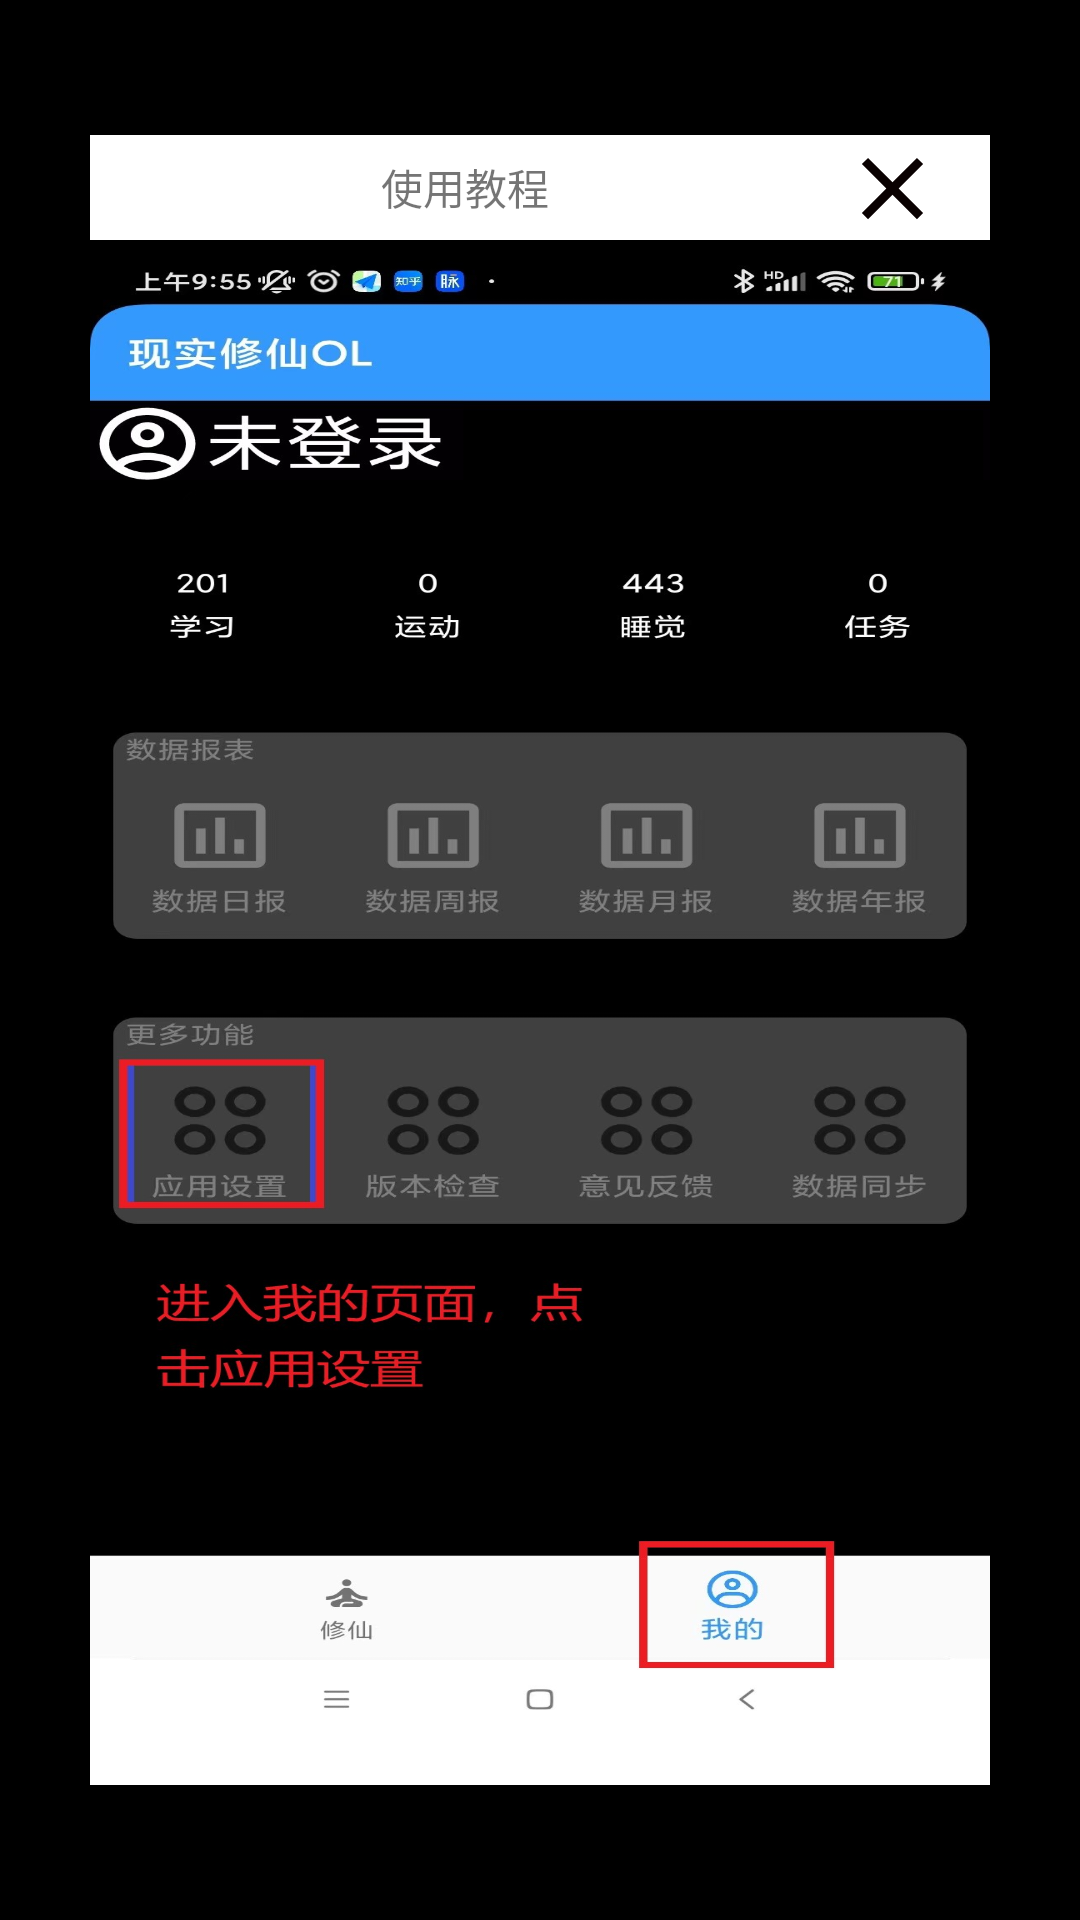

Where icons sit on this 1080px x 1920px app screen, as box=[x1, y1, x2, y2]:
close: box=[862, 158, 923, 219]
